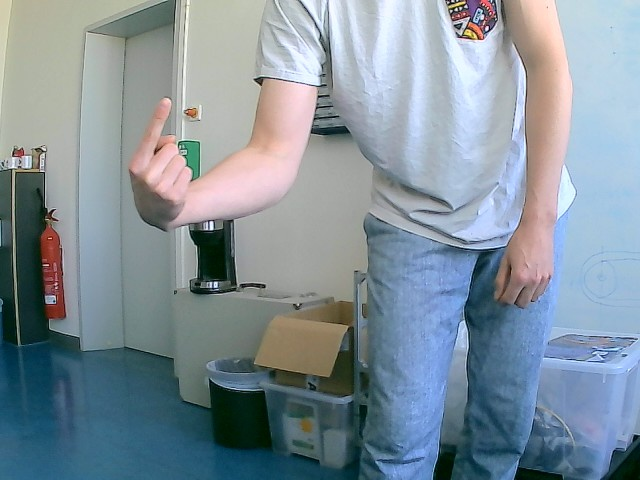no_gesture: (485, 209, 557, 312)
up: (127, 96, 193, 231)
